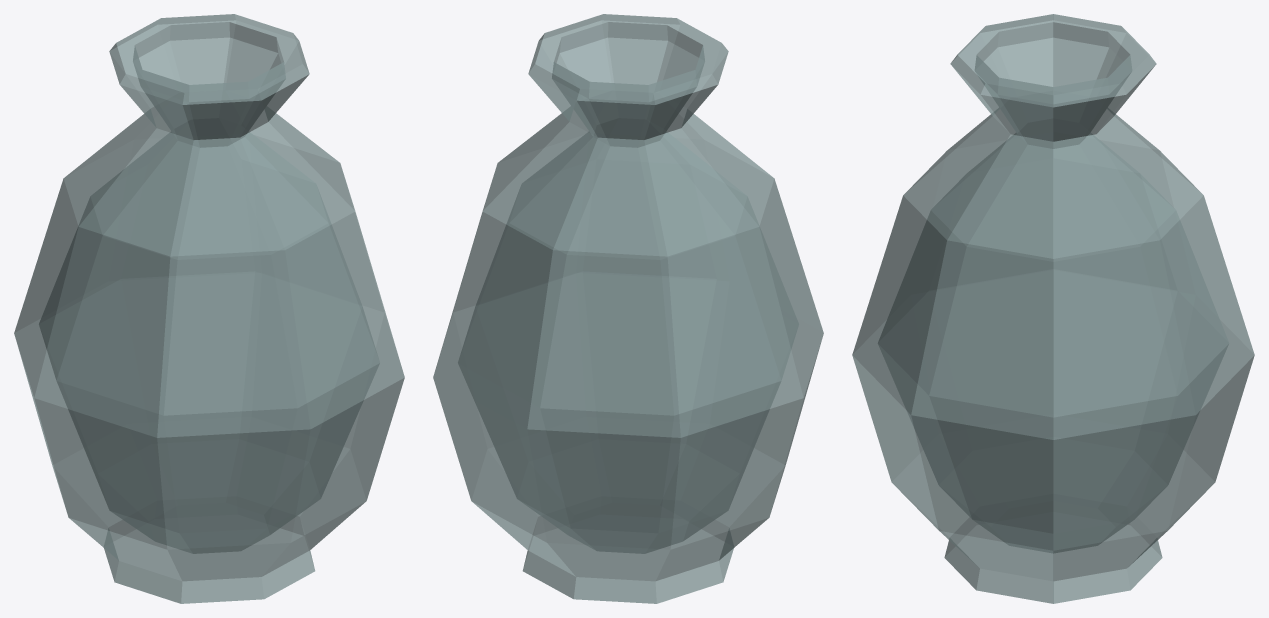
File: POT_4.fbx
3 renders of one model, left to right at view 1: azimuth 30°, elevation 25°; view 2: azimuth 150°, elevation 25°; view 3: azimuth 270°, elevation 25°, orthographic.
Parts seen in each view (by area): view 1: pCylinder8; view 2: pCylinder8; view 3: pCylinder8.
Boxes of the visible parts, box(x1,y1,x2,y2) form: pCylinder8: box(14, 14, 404, 603); pCylinder8: box(433, 14, 823, 603); pCylinder8: box(852, 14, 1254, 603).
Size of the model in its own units: 0.4282 by 0.5905 by 0.4282.
